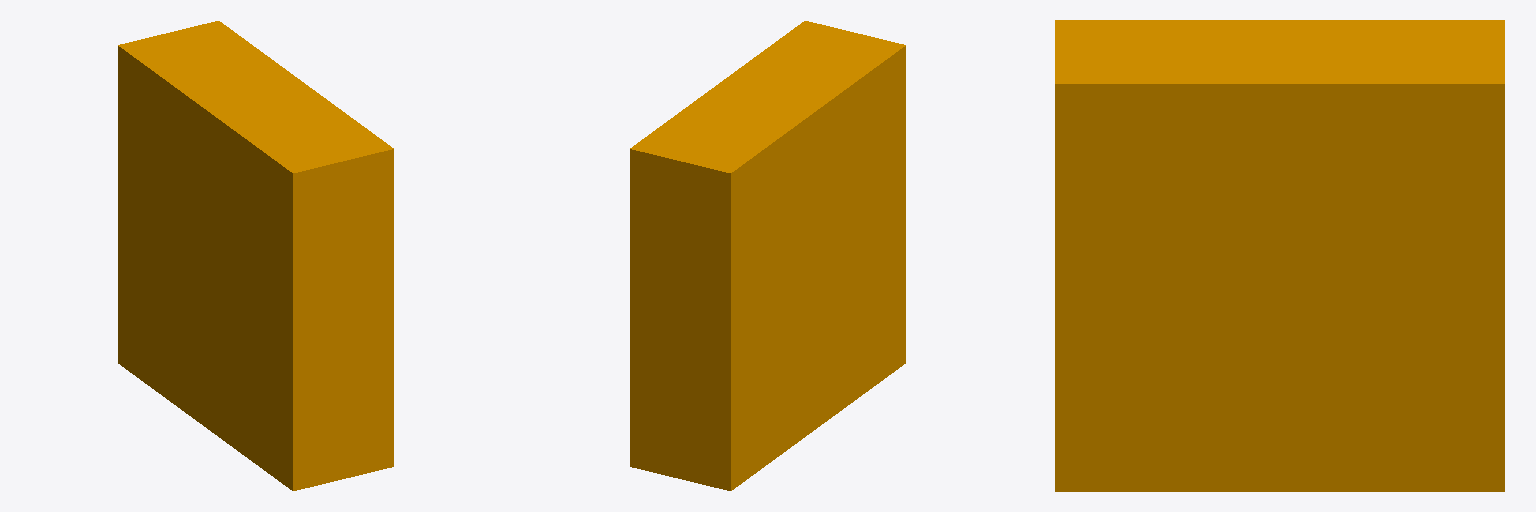
URDF robot description (tag_box_3):
<?xml version="1.0"?>

<robot 
	name="tag_box_3">
  <!-- tag box -->
  <link name="tag_box_3">
   <inertial>
            <origin xyz="0 0 0" rpy="0 0 0"/>
            <mass value="1.0" />      
            <inertia ixx="0.047"  ixy="0"  ixz="0" iyy="0.058" iyz="0" izz="0.08" />
    </inertial>
    <collision>
      <origin xyz="0 0 0" rpy="0 0 0"/>
      <geometry>
	<box size="0.2 0.2 0.2"/>
      </geometry>
    </collision>
    <visual>
      <origin xyz="0 0 0" rpy="0 0 0"/>
      <geometry>
        <mesh filename="package://april_tags_gazebo/meshes/tag3.dae"/>
      </geometry>
    </visual>
</link>
    
    <gazebo reference="tag_box_3">
          <mu1 value="0.1"/>
          <mu2 value="0.1"/>
          <kp value="100000.0" />
          <kd value="100000.0" />
          <fdir1>1 0 0</fdir1>
      </gazebo>

</robot>

--- Facts derived from the render (not from the file) ---
Views: 3 orthographic renders of the robot side by side, from view 1: azimuth 30°, elevation 25°; view 2: azimuth 150°, elevation 25°; view 3: azimuth 270°, elevation 25°.
Model tag_box_3 with 1 links and 0 joints (none), rooted at tag_box_3, posed all joints at 0.
Links seen in each view (by area): view 1: tag_box_3; view 2: tag_box_3; view 3: tag_box_3.
Link boxes in pixels (x1,y1,x2,y2): tag_box_3: (118,21,393,490); tag_box_3: (630,21,905,490); tag_box_3: (1055,20,1504,491).
Bounding box of the posed robot: 0.03 × 0.09 × 0.09 m (x, y, z).
Meshes: 1 distinct files referenced, 1 mesh visuals loaded (1 Collada DAE).